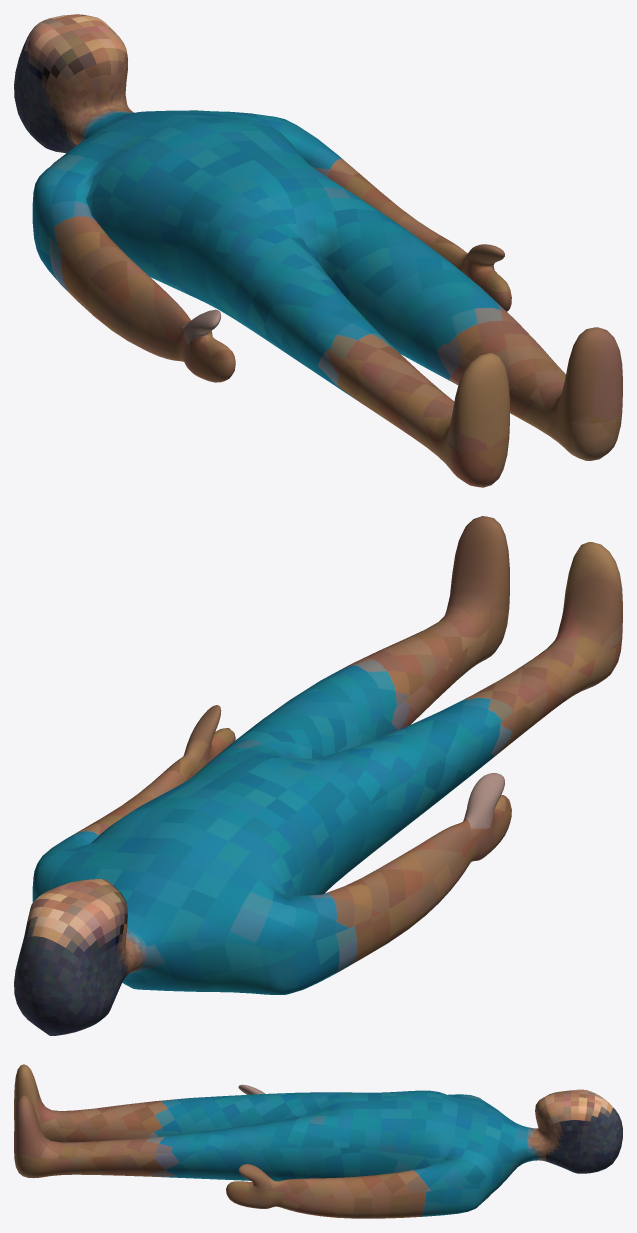
The model's file is Nurse1.glb.
3 views of the same model, one above another, from view 1: azimuth 30°, elevation 25°; view 2: azimuth 150°, elevation 25°; view 3: azimuth 270°, elevation 25° (orthographic). The views are drawn at different scales.
Parts seen in each view (by area): view 1: Cube.001; view 2: Cube.001; view 3: Cube.001.
Boxes of the visible parts, <box> form: Cube.001: <box>14,14,622,487</box>; Cube.001: <box>14,516,622,1035</box>; Cube.001: <box>14,1064,622,1218</box>.
Bounding box in the file's own units: 2.82 × 1.54 × 8.17.
1 material, 1 textured.
